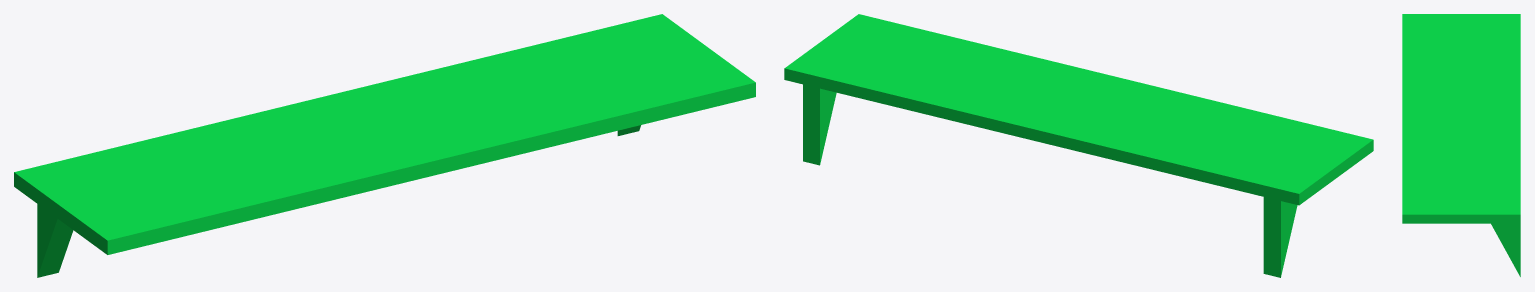
The model's file is prateleira.fbx.
3 renders of one model, left to right at view 1: azimuth 30°, elevation 25°; view 2: azimuth 150°, elevation 25°; view 3: azimuth 270°, elevation 25°, orthographic. The views are drawn at different scales.
Visible parts, largest first — view 1: Prateleira.001; view 2: Prateleira.001; view 3: Prateleira.001.
Boxes of the visible parts, x1=… form: Prateleira.001: x1=14, y1=14, x2=755, y2=277; Prateleira.001: x1=784, y1=14, x2=1373, y2=277; Prateleira.001: x1=1402, y1=14, x2=1520, y2=276.
Size of the model in its own units: 280 by 46 by 70.
